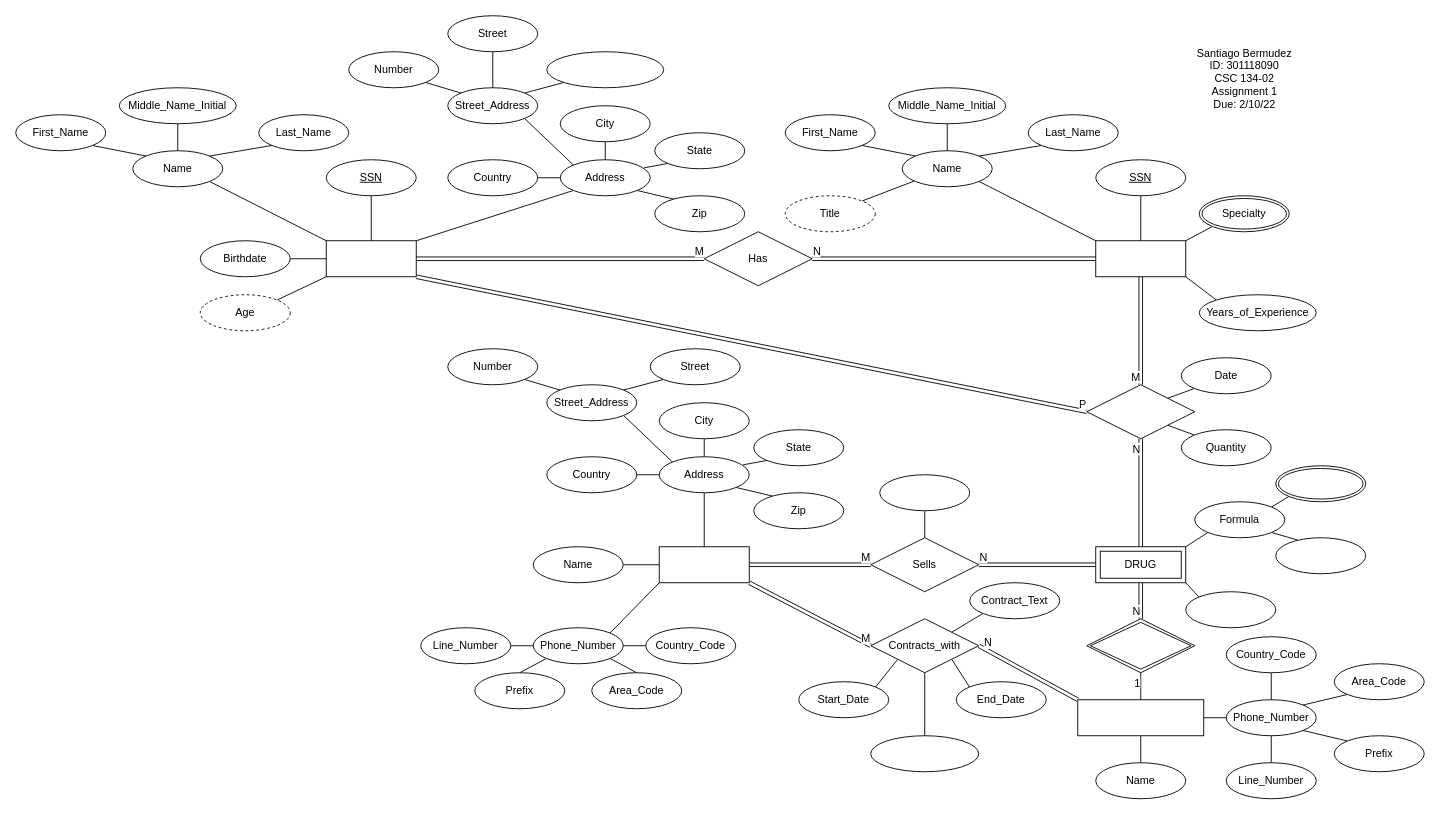
The diagram is 1440 pixels wide and 815 high, and some of its shapes have lost their labels. The shapes that lost their labels are listed below. From the top down, each one's centre as x and y in pixels, then its label:
[605,69]: Apartment_Number
[370,258]: PATIENT
[1140,258]: DOCTOR
[1140,411]: Prescribes
[924,492]: Price
[1320,483]: Ingredients
[703,564]: PHARMACY
[1320,555]: Procedure
[1230,609]: Trade_Name
[1140,645]: Makes
[1140,717]: PHARMACEUTICAL COMPANY
[924,753]: Supervisor_Name
